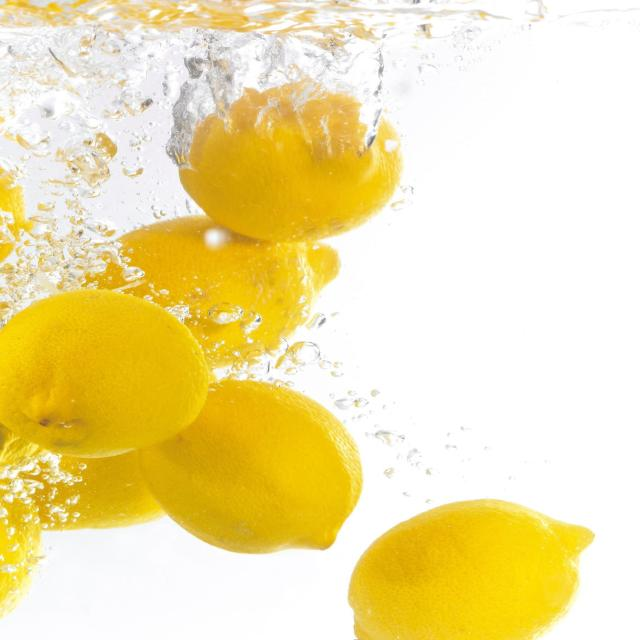lemon: (339, 494, 597, 640)
